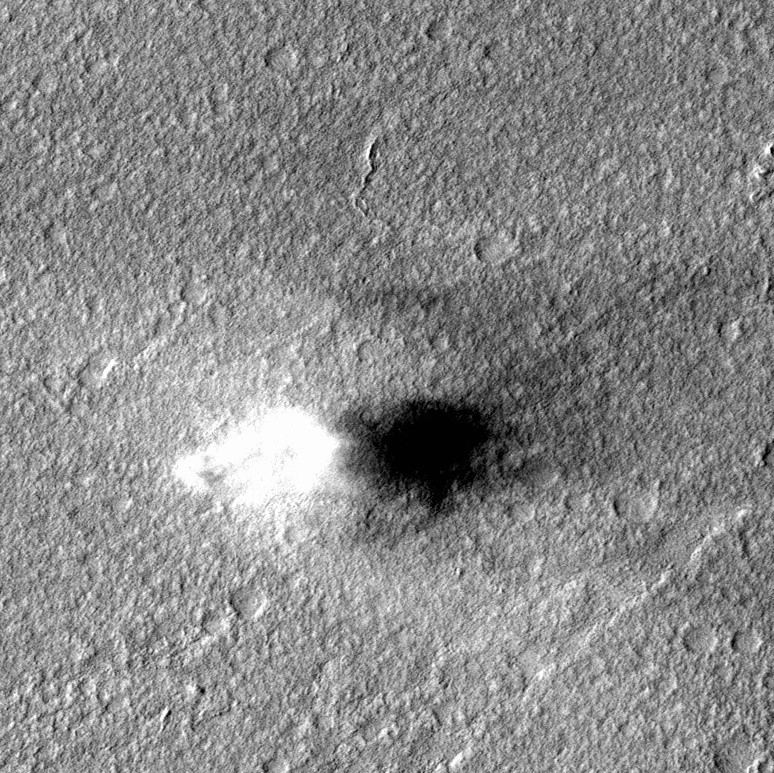dust_devil: (172, 386, 539, 536)
